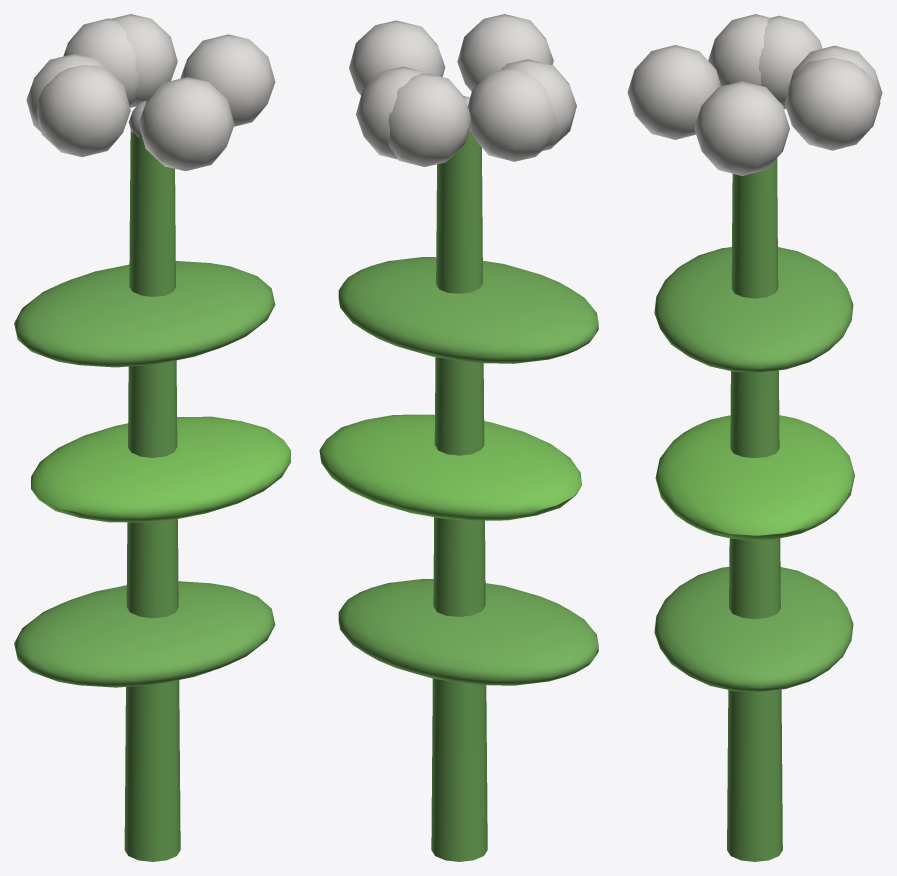
Rendered from solanum-diphyllum.glb.
The picture shows the model from 3 angles, left to right: view 1: azimuth 30°, elevation 25°; view 2: azimuth 150°, elevation 25°; view 3: azimuth 270°, elevation 25°; orthographic projection.
Parts seen in each view (by area): view 1: stem, leaf2, leaf0, leaf1, berry2, berry5, berry3, berry0, berry4, berry1; view 2: stem, leaf2, leaf1, leaf0, berry1, berry4, berry2, berry3, berry0, berry5; view 3: stem, leaf1, leaf2, leaf0, berry3, berry0, berry2, berry1, berry5, berry4.
Boxes of the visible parts, bbox=[...] form: stem: bbox=[124, 130, 180, 861]; leaf2: bbox=[14, 261, 275, 367]; leaf0: bbox=[14, 581, 275, 687]; leaf1: bbox=[31, 416, 290, 522]; berry2: bbox=[138, 77, 234, 171]; berry5: bbox=[36, 65, 130, 156]; berry3: bbox=[180, 34, 275, 126]; berry0: bbox=[111, 14, 177, 107]; berry4: bbox=[63, 18, 138, 105]; berry1: bbox=[26, 53, 115, 131]; stem: bbox=[431, 132, 487, 861]; leaf2: bbox=[338, 257, 598, 363]; leaf1: bbox=[319, 414, 581, 520]; leaf0: bbox=[338, 578, 598, 685]; berry1: bbox=[467, 68, 556, 161]; berry4: bbox=[388, 73, 470, 166]; berry2: bbox=[457, 14, 553, 91]; berry3: bbox=[349, 20, 445, 95]; berry0: bbox=[356, 66, 429, 159]; berry5: bbox=[501, 59, 576, 150]; stem: bbox=[727, 158, 782, 861]; leaf1: bbox=[655, 415, 854, 540]; leaf2: bbox=[654, 247, 853, 372]; leaf0: bbox=[654, 567, 853, 691]; berry3: bbox=[694, 81, 789, 175]; berry0: bbox=[784, 57, 880, 150]; berry2: bbox=[627, 45, 720, 139]; berry1: bbox=[759, 15, 822, 109]; berry5: bbox=[708, 14, 770, 86]; berry4: bbox=[786, 45, 882, 100].
Size of the model in its own units: 0.1495 by 0.4413 by 0.1278.
